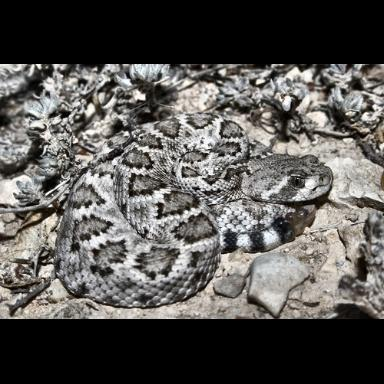snake: (79, 114, 334, 310)
